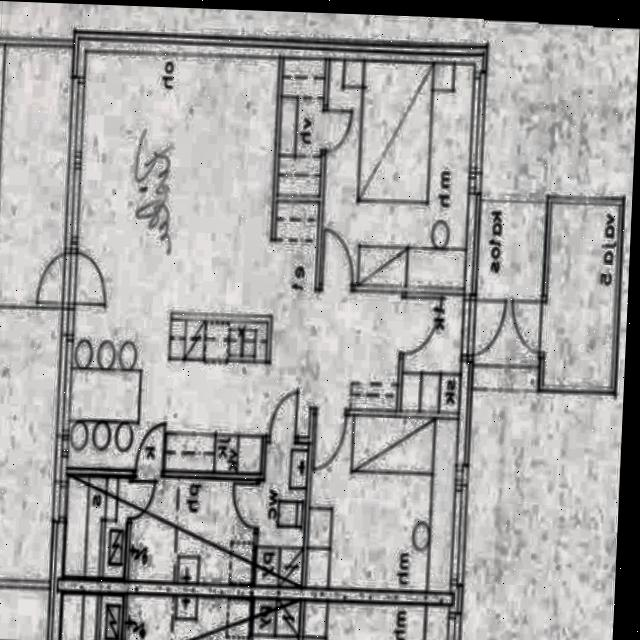room: (321, 59, 473, 288), (306, 413, 457, 591), (544, 202, 619, 385), (129, 475, 255, 583), (256, 442, 308, 585), (402, 293, 463, 411), (65, 476, 129, 577), (278, 58, 325, 194)
